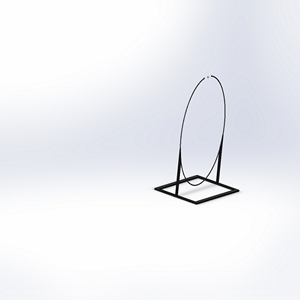circle: (151, 73, 241, 203)
